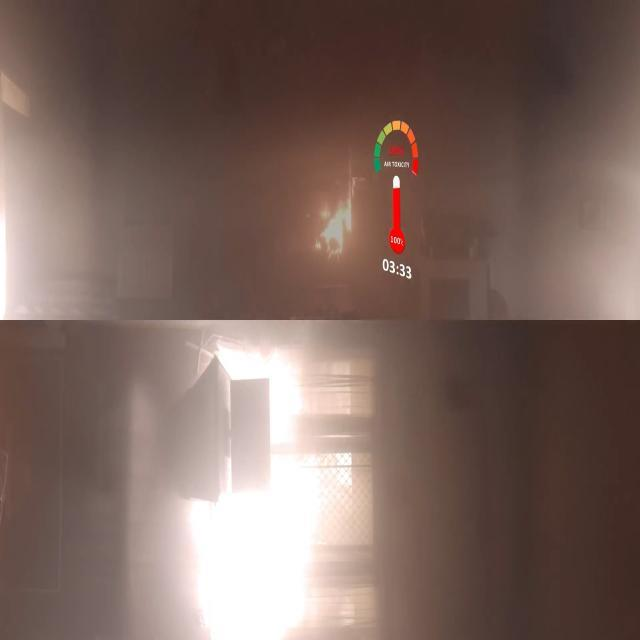Fire: (238, 117, 384, 283)
